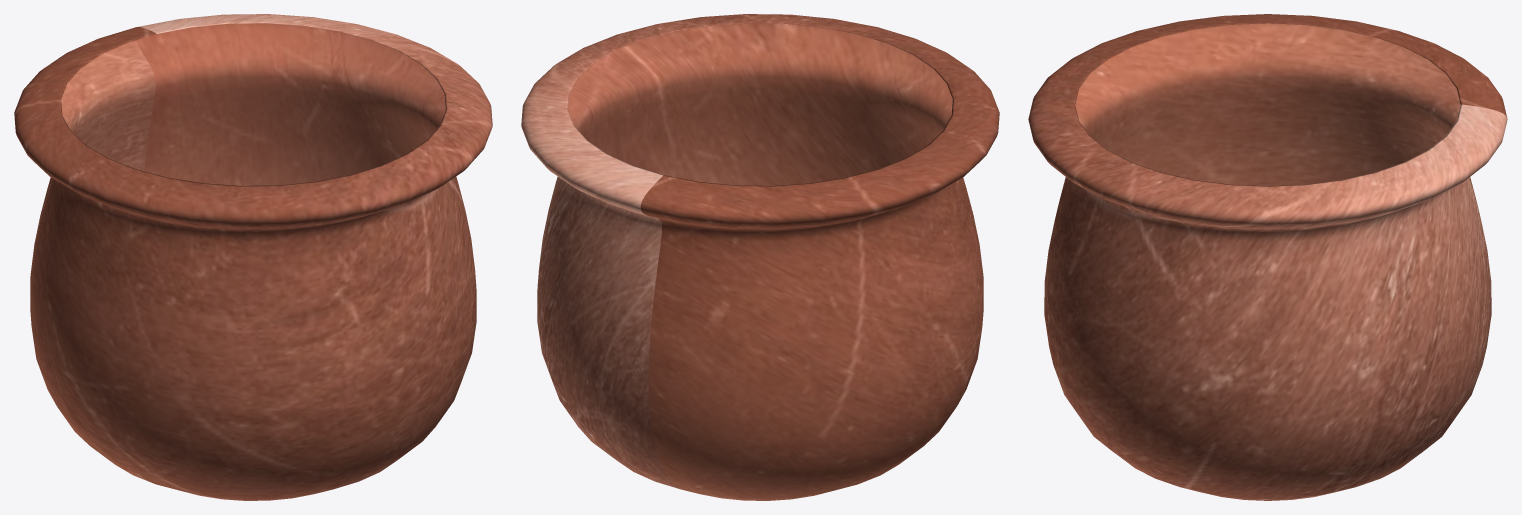
Rendered from caldero_shell2.FBX.
3 renders of one model, left to right at view 1: azimuth 30°, elevation 25°; view 2: azimuth 150°, elevation 25°; view 3: azimuth 270°, elevation 25°, orthographic.
Parts seen in each view (by area): view 1: Caldero; view 2: Caldero; view 3: Caldero.
Boxes of the visible parts, x1=… form: Caldero: x1=14, y1=14, x2=492, y2=500; Caldero: x1=521, y1=14, x2=999, y2=500; Caldero: x1=1028, y1=14, x2=1507, y2=500.
Size of the model in its own units: 3.64 by 3.08 by 3.64.
1 material, 1 textured.
